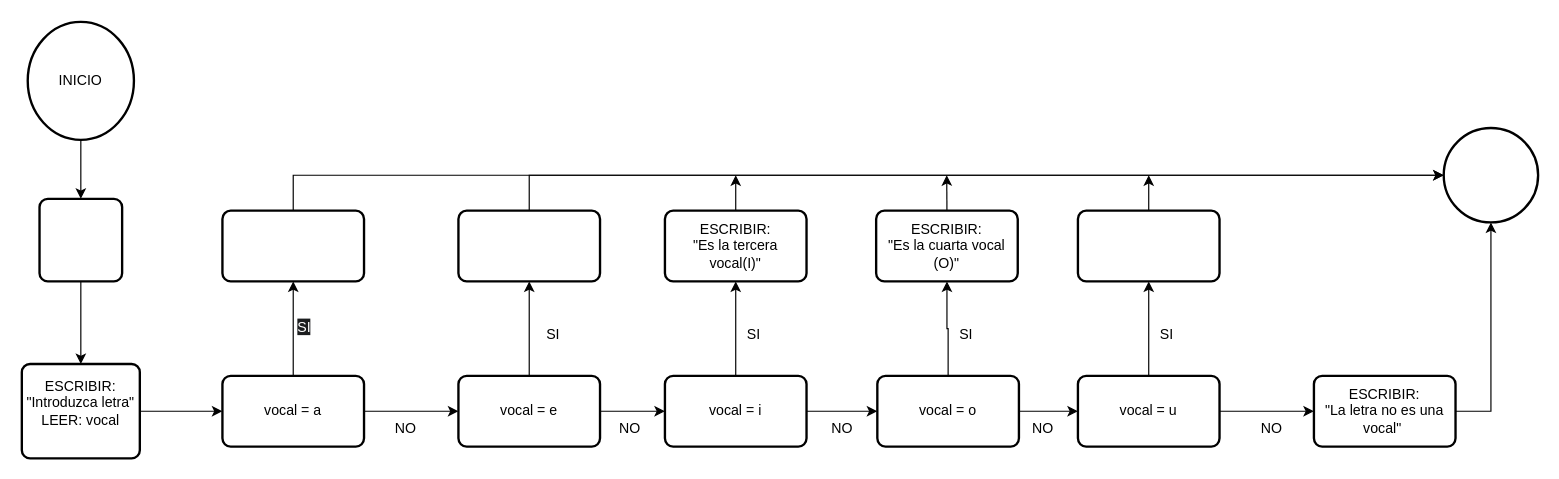
Image size: 1559x479. Some labels were removed from this diagram. The shapes that lost their labels are listed below. From the top down, each one's box as (x1, y1, x2, y2) in pixels, then its label:
(1442, 126, 1539, 223): FIN
(38, 197, 123, 282): string: vocal
(221, 209, 365, 282): ESCRIBIR: "Es la primera vocal(A)"
(457, 209, 601, 282): ESCRIBIR: "Es la segunda vocal(E)"
(1076, 209, 1220, 282): ESCRIBIR: "Es la quinta vocal (U)"
